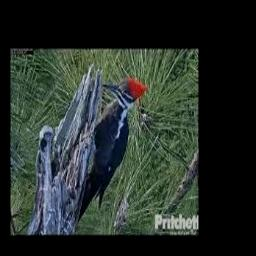Woodpecker: (76, 78, 147, 225)
